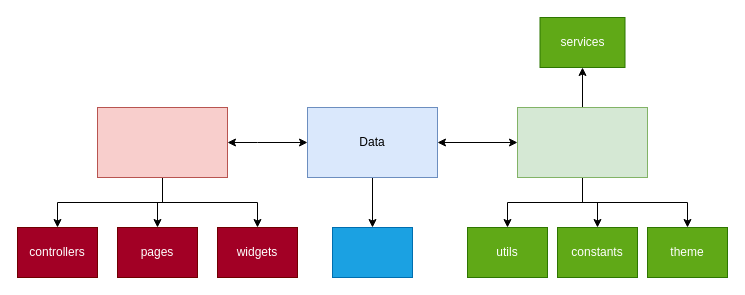
Some shapes in this 745 by 295 pixel diagram are drawn without their labels. Here are the shapes that lost their labels. From the top down, the centre of each, then its label:
At (x=162, y=142): "P resen tation".
At (x=582, y=142): "Core".
At (x=372, y=252): "Model".
